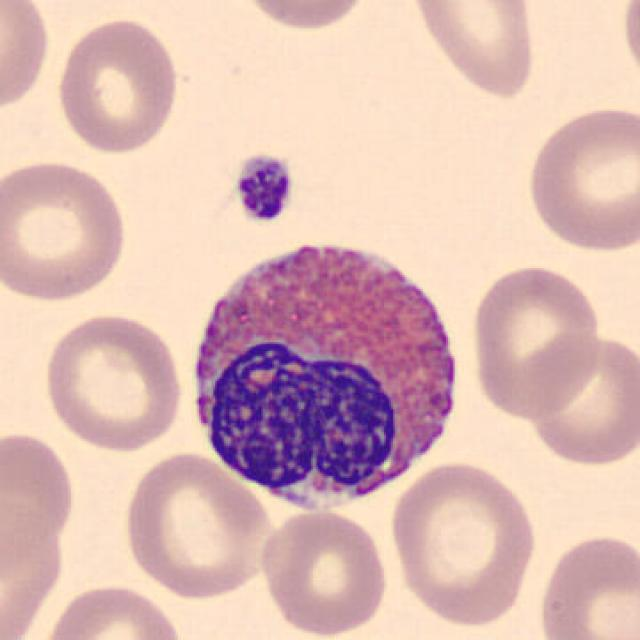Eosinophil: (174, 220, 475, 524)
Platelets: (229, 150, 297, 227)
RBC: (386, 457, 540, 628), (118, 448, 278, 601), (468, 259, 604, 422), (39, 308, 187, 455), (0, 155, 132, 305), (52, 14, 183, 157), (521, 100, 638, 256), (254, 506, 391, 638), (521, 328, 638, 471), (403, 0, 542, 102), (534, 529, 638, 640), (0, 426, 80, 560), (38, 580, 188, 640), (0, 503, 62, 640), (0, 0, 53, 116), (231, 0, 377, 33), (617, 0, 640, 97)
